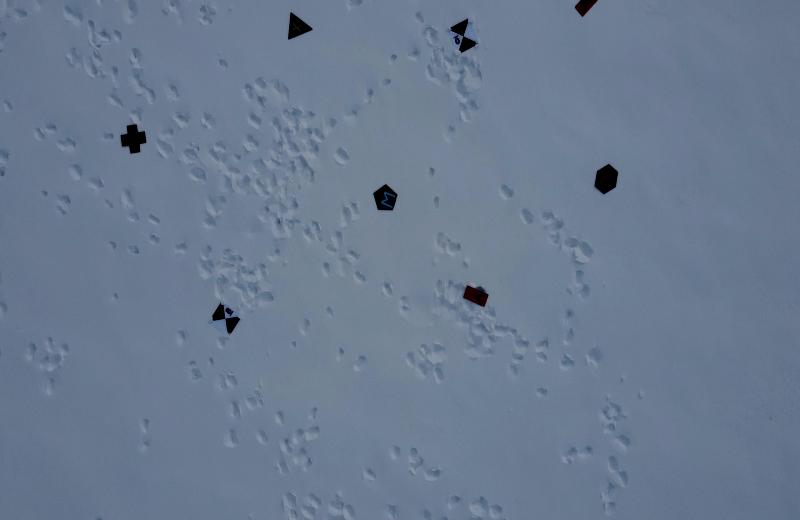Cross: (118, 122, 150, 156)
Hexagon: (591, 161, 622, 197)
Pentagon: (370, 182, 399, 217)
Rectangle: (460, 284, 493, 314), (572, 0, 602, 21)
Triangle: (286, 9, 314, 43)
